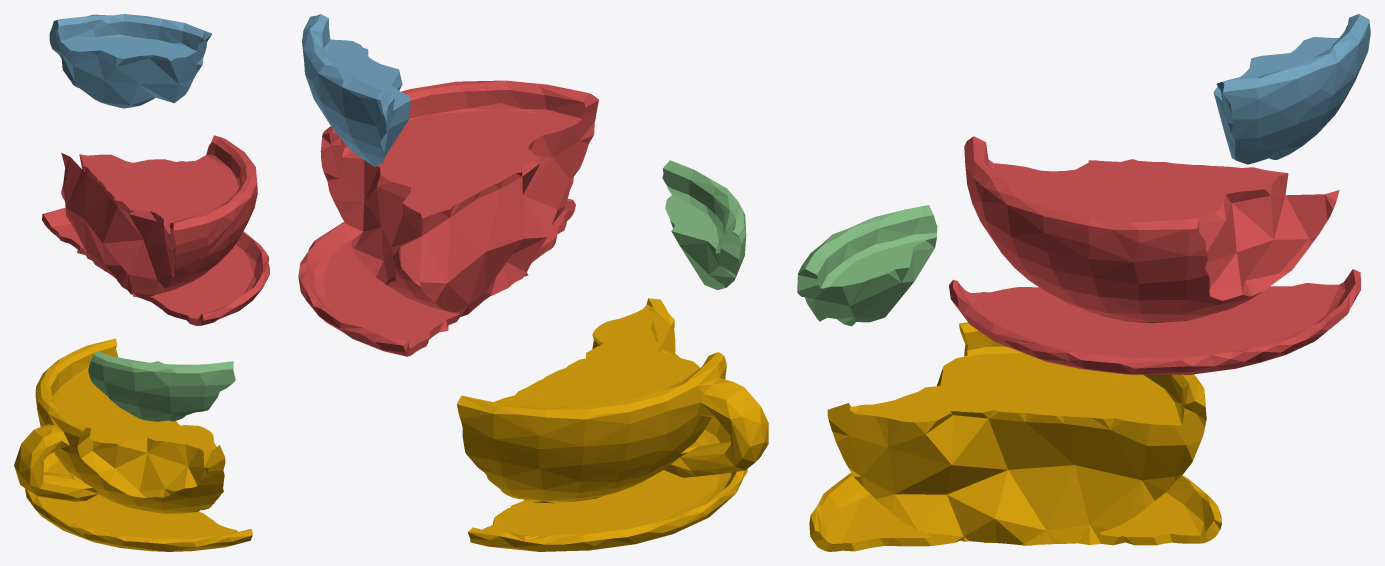
File: fractured_40_4pcs_transformed.glb
3 renders of one model, left to right at view 1: azimuth 30°, elevation 25°; view 2: azimuth 150°, elevation 25°; view 3: azimuth 270°, elevation 25°, orthographic. The views are drawn at different scales.
Parts seen in each view (by area): view 1: piece_0.obj, piece_1.obj, piece_2.obj, piece_3.obj; view 2: piece_1.obj, piece_0.obj, piece_2.obj, piece_3.obj; view 3: piece_1.obj, piece_0.obj, piece_2.obj, piece_3.obj.
Part boxes in pixels (<box>): piece_0.obj: <box>14,338,252,551</box>; piece_1.obj: <box>42,135,269,325</box>; piece_2.obj: <box>49,14,211,108</box>; piece_3.obj: <box>88,351,235,421</box>; piece_1.obj: <box>298,80,598,356</box>; piece_0.obj: <box>456,298,768,551</box>; piece_2.obj: <box>302,14,410,166</box>; piece_3.obj: <box>662,160,746,289</box>; piece_1.obj: <box>949,136,1360,374</box>; piece_0.obj: <box>809,322,1221,551</box>; piece_2.obj: <box>1213,14,1370,164</box>; piece_3.obj: <box>797,205,937,326</box>.
Bounding box in the file's own units: 1 × 1.29 × 1.24.
